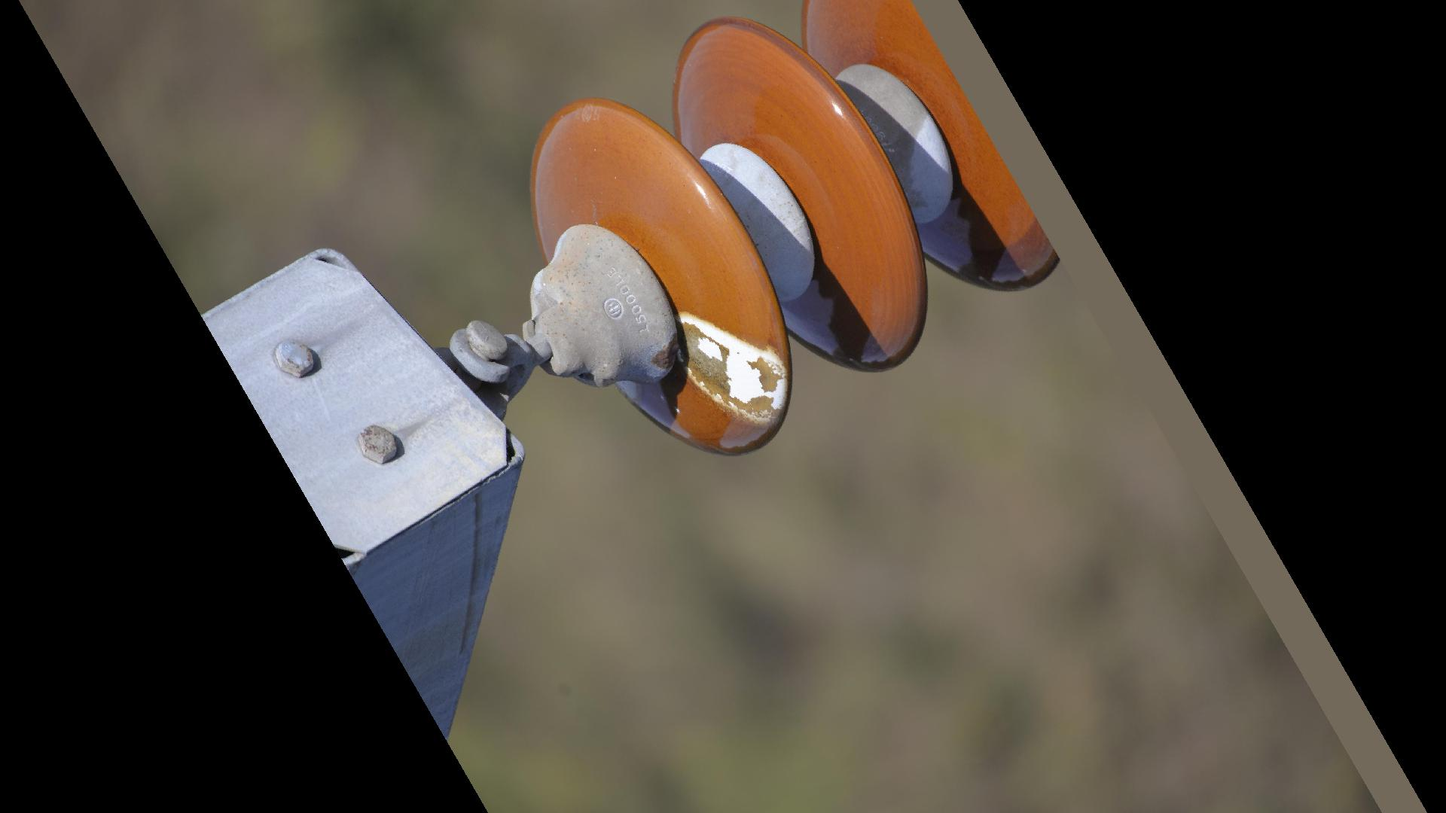insulator: (522, 1, 1062, 464)
insulator_flashover: (673, 309, 794, 428)
